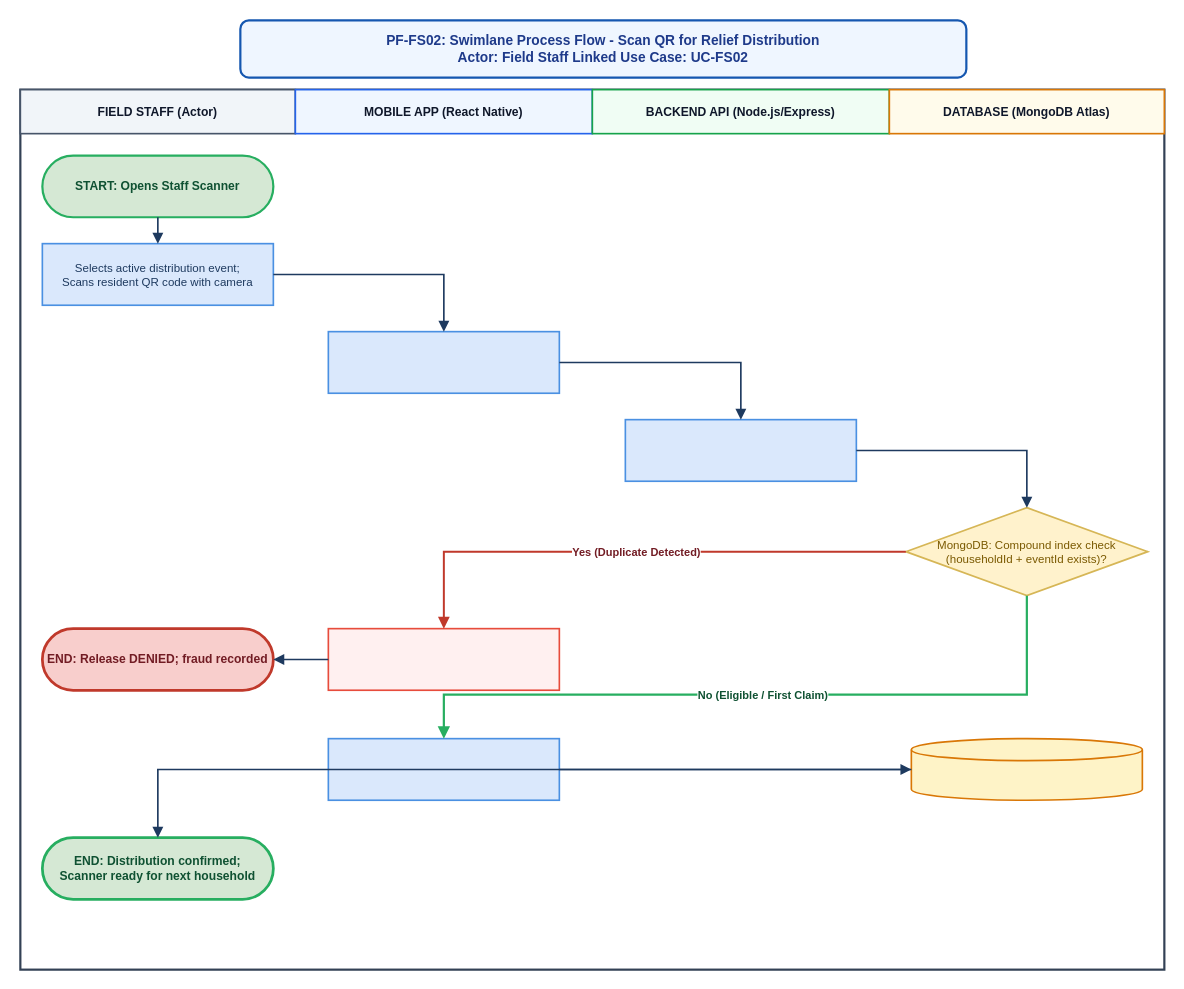
Image size: 1184x989. Some labels were removed from this diagram. Each missing label, with the centre of its shape:
App transmits scan payload to POST /api/distributions/release: point 443,362
Backend executes anti-fraud duplicate verification engine: point 740,450
Display "DUPLICATE CLAIM WARNING" red alert; stream incident to Fraud Dashboard: point 443,659
Display "VERIFIED BENEFICIARY"; Staff taps "Confirm Release": point 443,769
MongoDB: Creates Distribution record; Updates Warehouse inventory stock: point 1026,769
